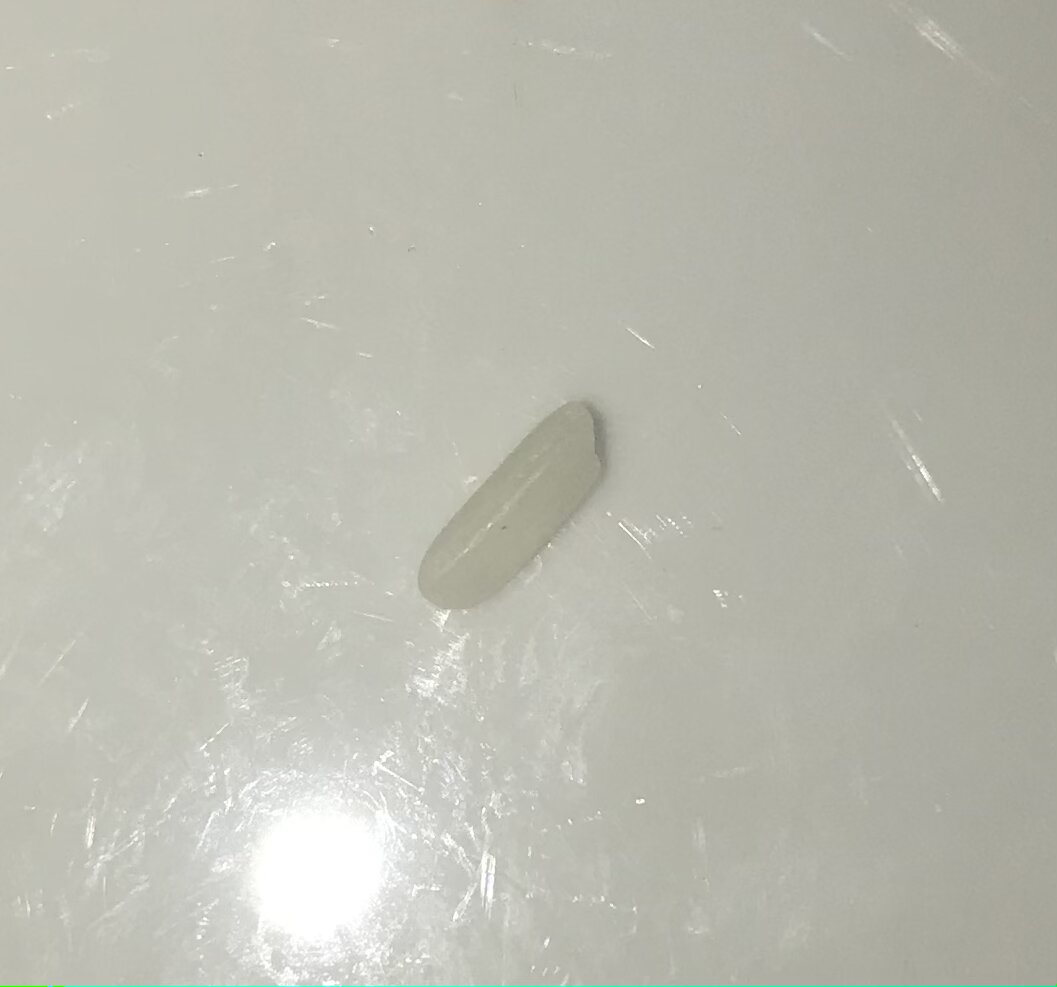Gao Lai Sua: (415, 394, 612, 620)
